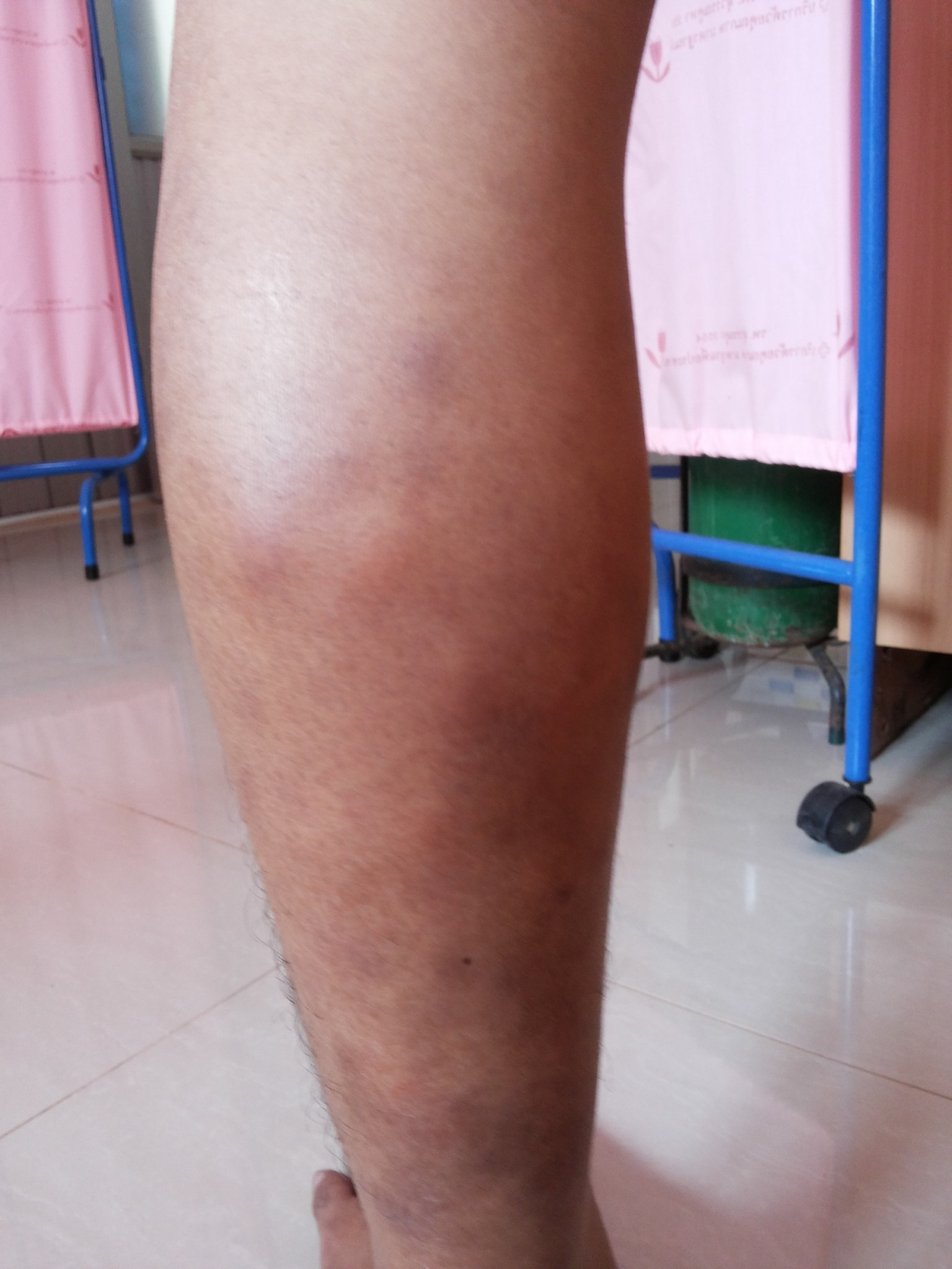Leprosy: (359, 759, 498, 880), (324, 522, 436, 623), (368, 323, 457, 411), (431, 637, 496, 735), (219, 524, 299, 602)
